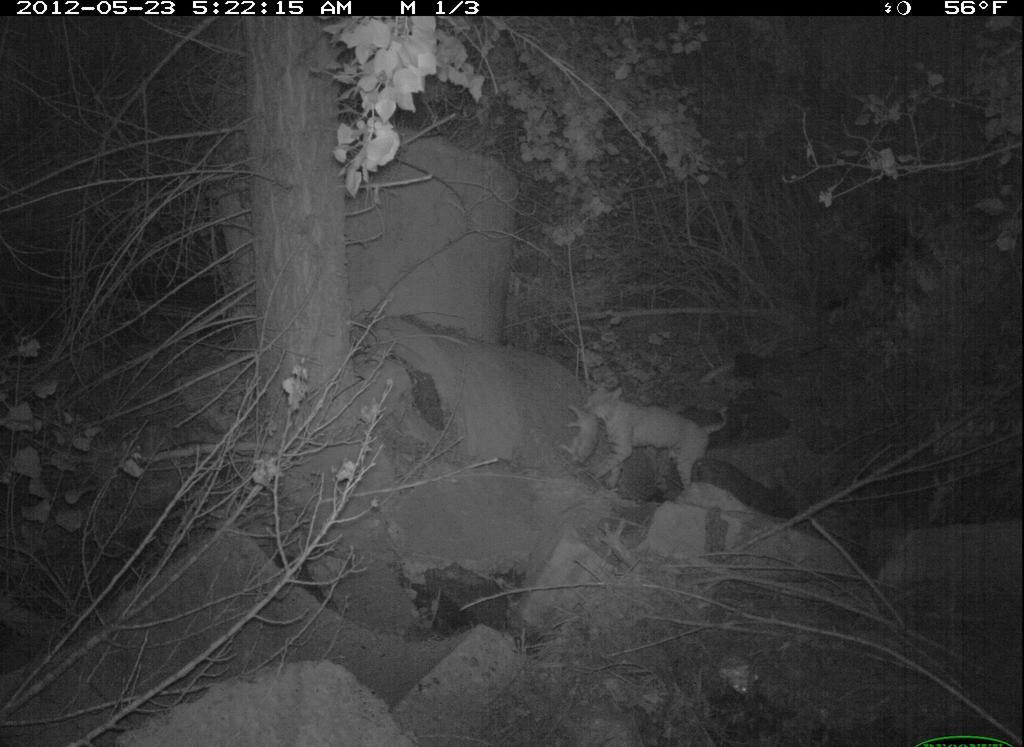bobcat: (561, 373, 739, 507)
